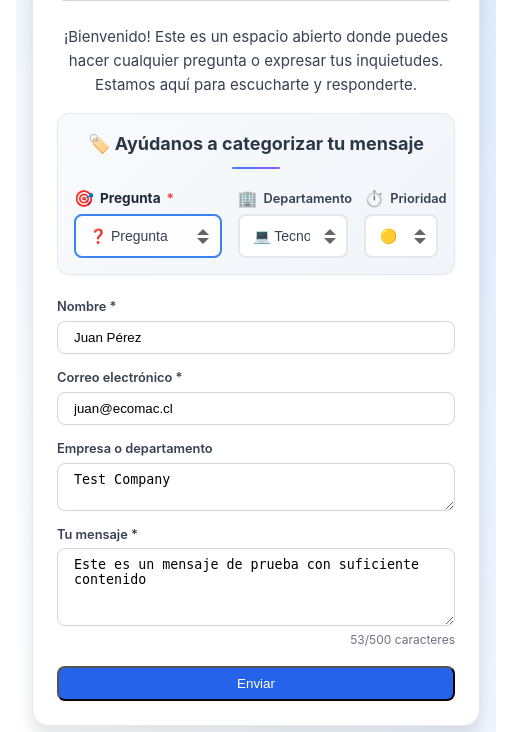
Test: InicioPlataformaWhy › Envío de formulario › debe manejar errores de red
(page scrolled)
Click the button with class "boton-enviar".
click(256, 683)  # box [57,666,455,700]
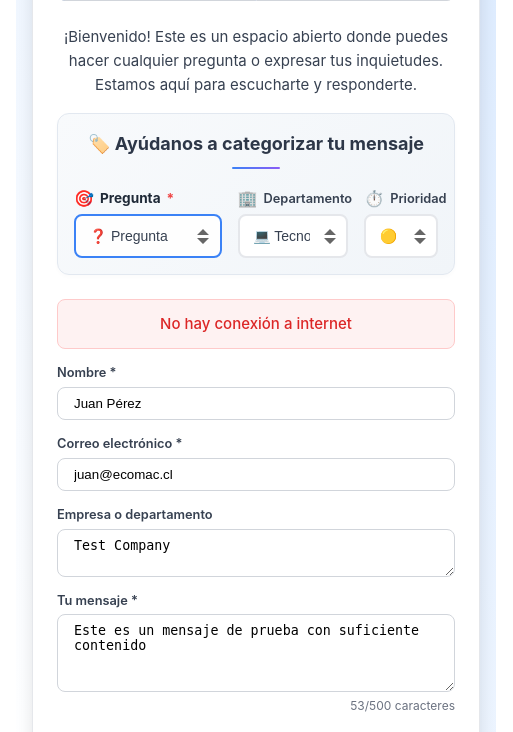
Now the text "No hay conexión a internet" is shown, box [57,299,455,349]
